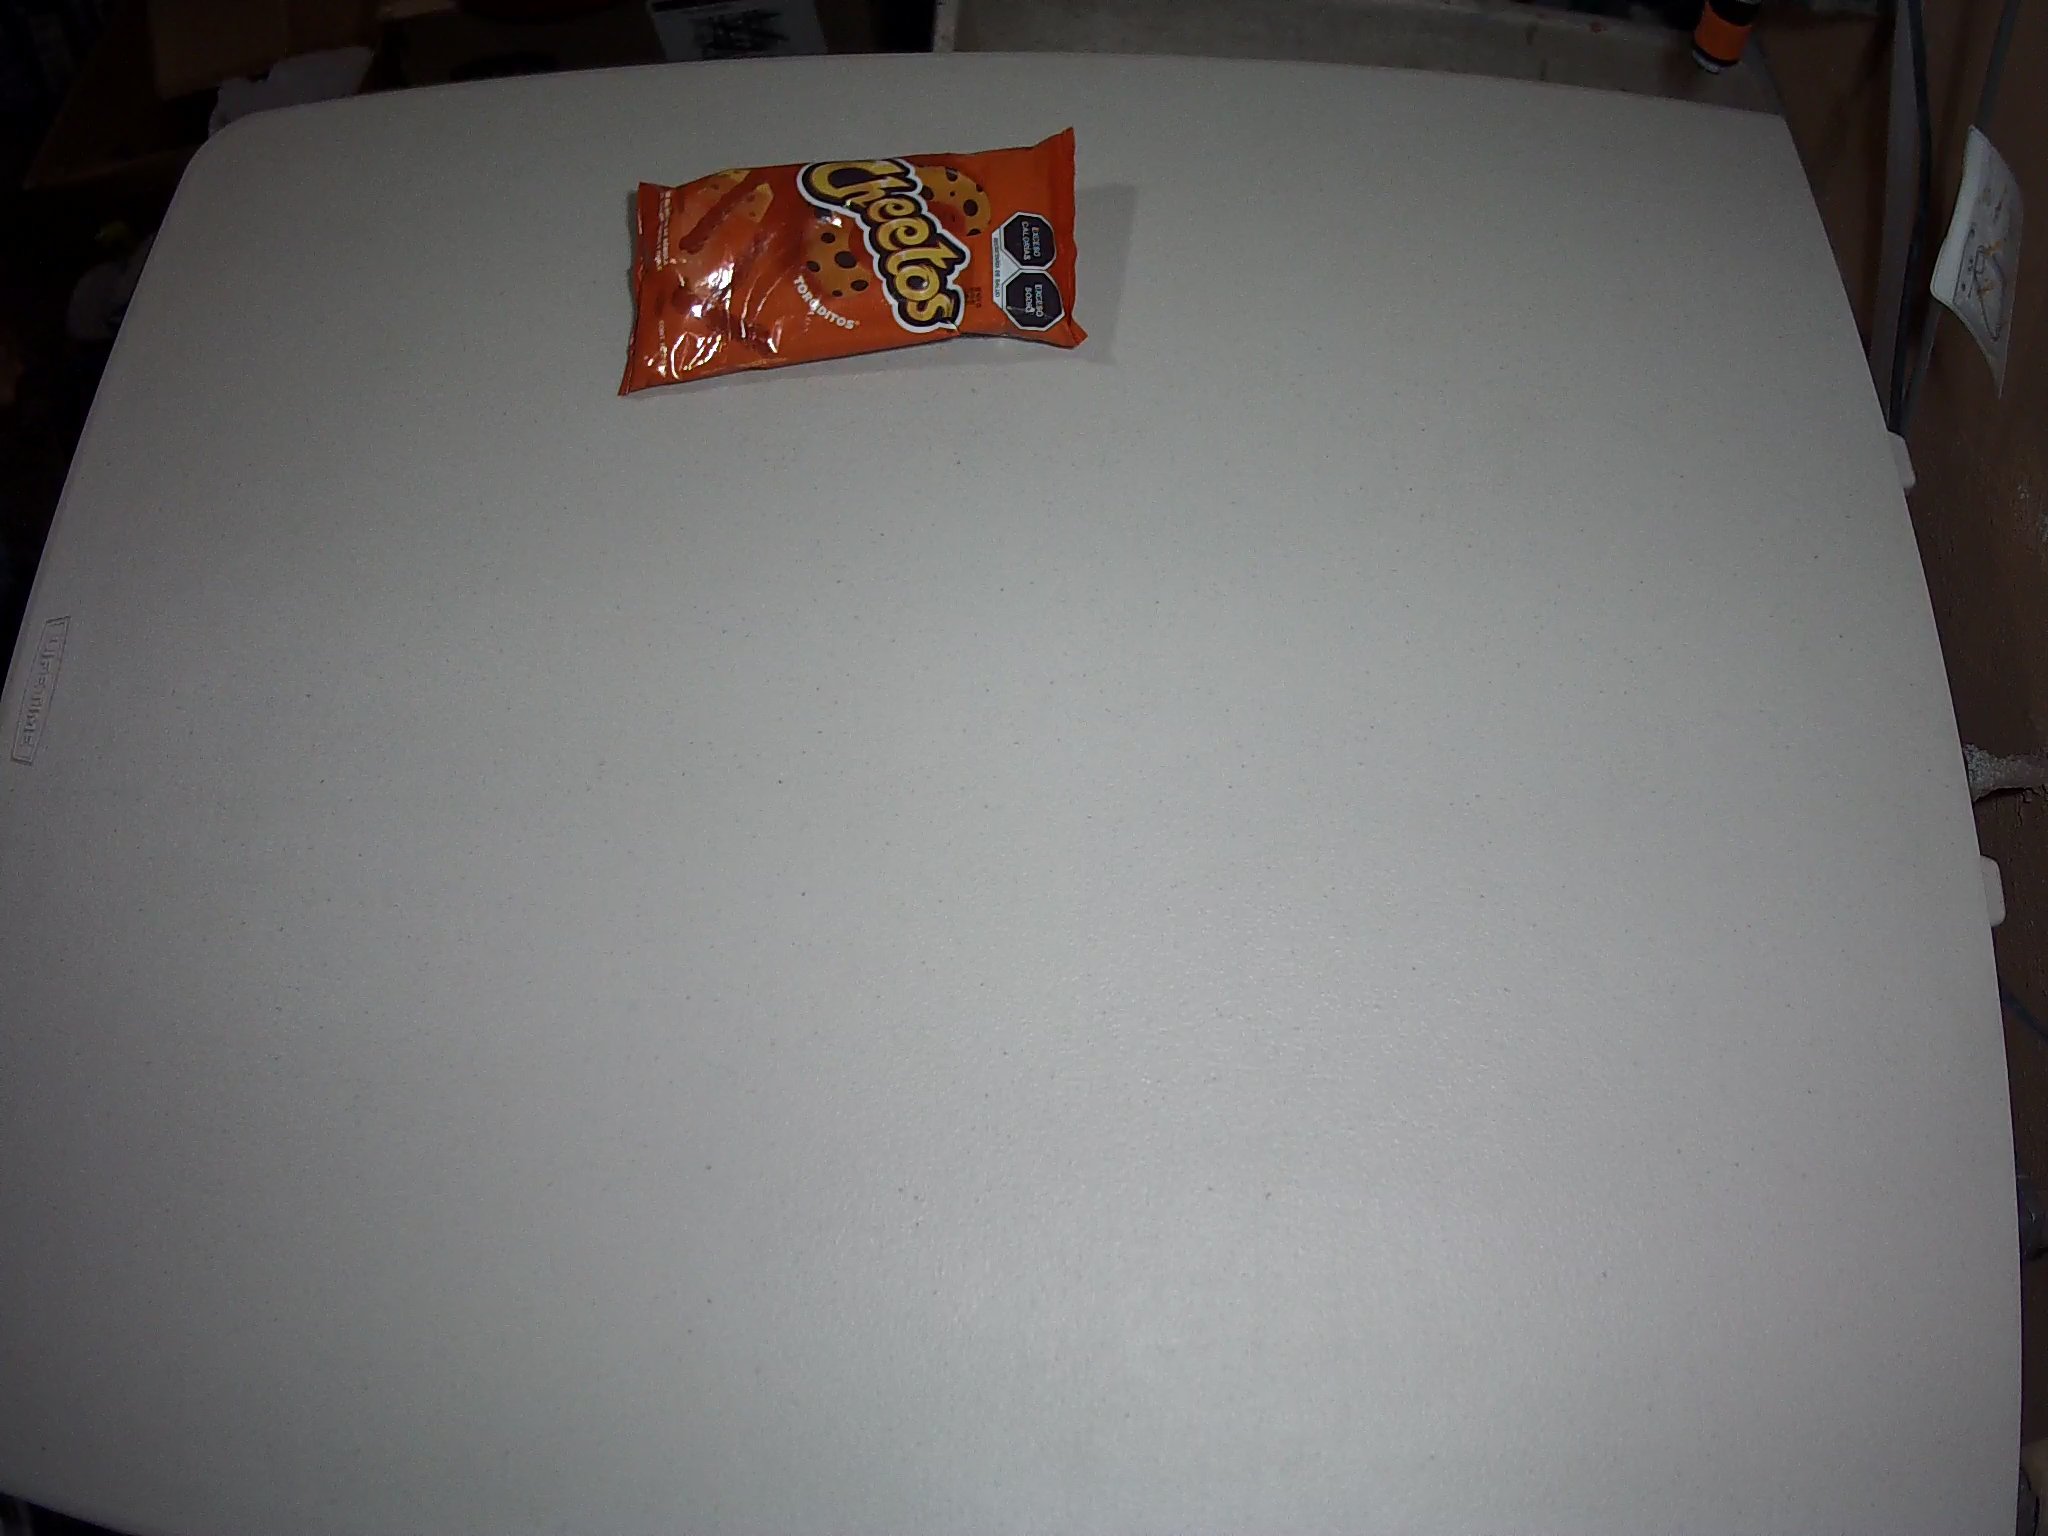CheetosTorciditos_55_F: (618, 123, 1089, 399)
